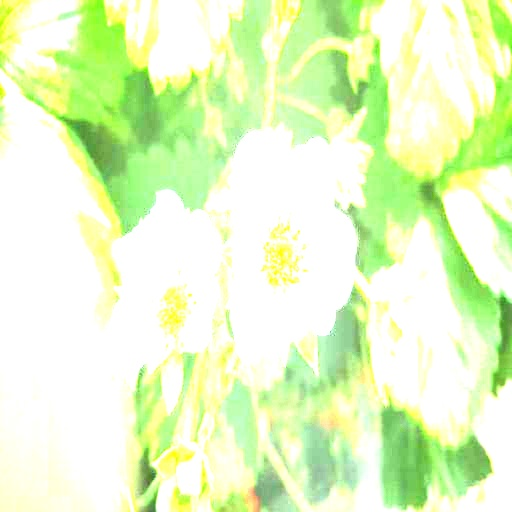Blossom Blight: (136, 251, 202, 350)
